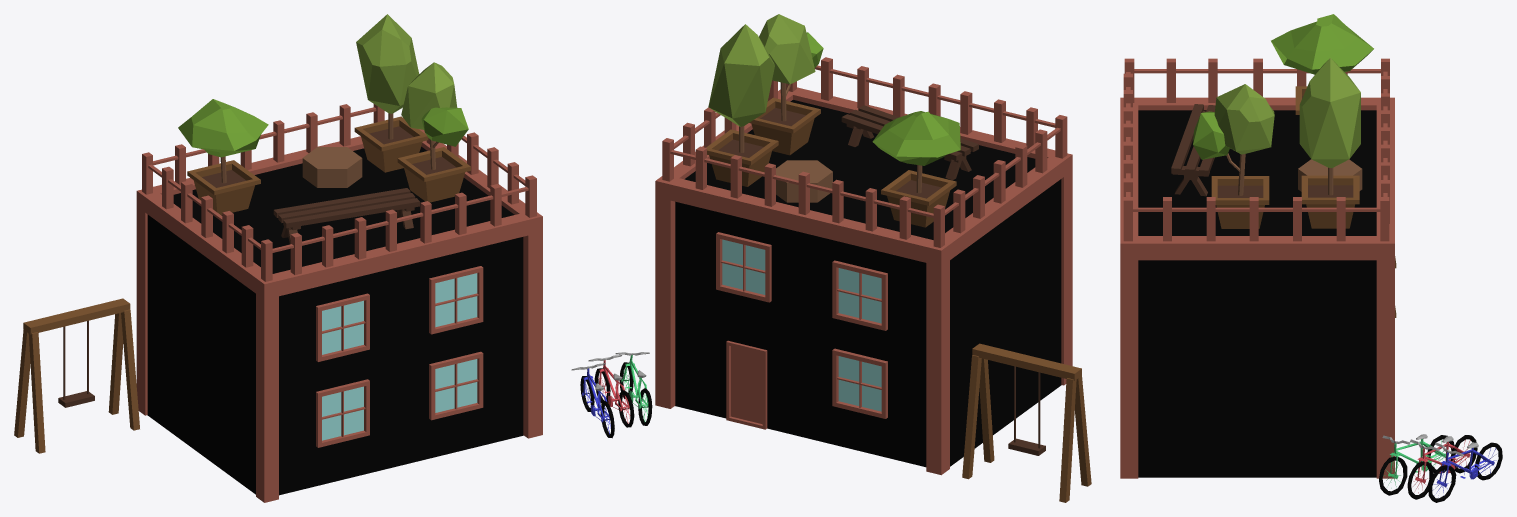
The model's file is newHouse5.fbx.
3 renders of one model, left to right at view 1: azimuth 30°, elevation 25°; view 2: azimuth 150°, elevation 25°; view 3: azimuth 270°, elevation 25°, orthographic. The views are drawn at different scales.
Visible parts, largest first — view 1: Wohnhaus5.001, Cube.016, Cube.017, SWING.001, Cube.010, Cube.011, Plane.036, Plane.034, Cube.012, Bench, Cylinder.001; view 2: Wohnhaus5.001, Cube.016, Cube.017, SWING.001, Cube.010, Plane.034, Cube.012, Cube.011, Plane.037, Plane.036, Bench, Cylinder.001 (+3 smaller); view 3: Wohnhaus5.001, Cube.016, Cube.017, Cube.010, Cube.011, Cube.012, Bench, Object010.003, Object010.002, Object010.001, Cylinder.001.
Part boxes in pixels (x1,y1,x2,y2): Wohnhaus5.001: (147, 146, 523, 495); Cube.016: (136, 129, 542, 502); Cube.017: (142, 104, 536, 281); SWING.001: (14, 298, 139, 453); Cube.010: (354, 14, 428, 172); Cube.011: (397, 62, 470, 202); Plane.036: (316, 351, 483, 447); Plane.034: (316, 266, 483, 361); Cube.012: (178, 99, 268, 215); Bench: (273, 188, 419, 244); Cylinder.001: (302, 147, 362, 187); Wohnhaus5.001: (675, 100, 1061, 467); Cube.016: (655, 87, 1072, 475); Cube.017: (662, 57, 1067, 247); SWING.001: (962, 343, 1091, 502); Cube.010: (706, 24, 778, 186); Plane.034: (716, 232, 887, 330); Cube.012: (872, 111, 960, 227); Cube.011: (749, 14, 823, 155); Plane.037: (726, 340, 767, 429); Plane.036: (832, 348, 887, 418); Bench: (841, 105, 978, 180); Cylinder.001: (776, 160, 832, 202); Wohnhaus5.001: (1138, 110, 1376, 477); Cube.016: (1120, 97, 1394, 478); Cube.017: (1123, 58, 1389, 241); Cube.010: (1299, 58, 1360, 228); Cube.011: (1193, 84, 1274, 228); Cube.012: (1271, 14, 1373, 114); Bench: (1171, 104, 1215, 196); Object010.003: (1428, 442, 1502, 502); Object010.002: (1407, 435, 1477, 499); Object010.001: (1379, 434, 1454, 495); Cylinder.001: (1298, 159, 1362, 191).
Bounding box in the file's own units: 13.37 × 10.19 × 9.02.
